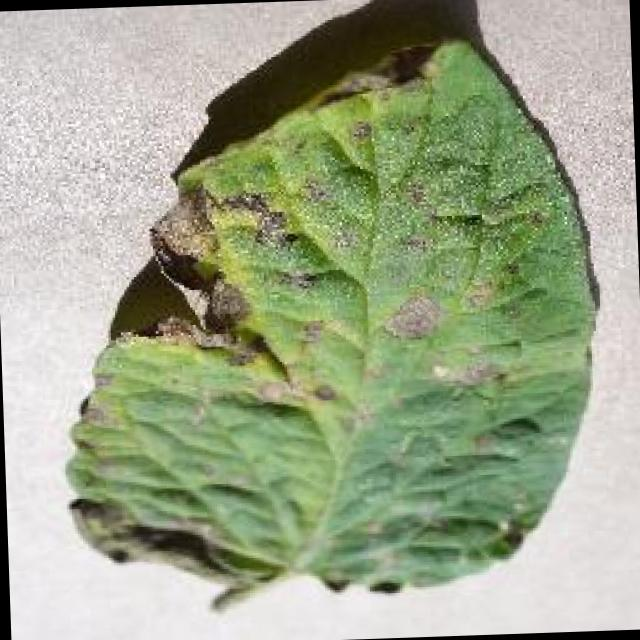Tomato_Early_Blight: (58, 56, 600, 574)
